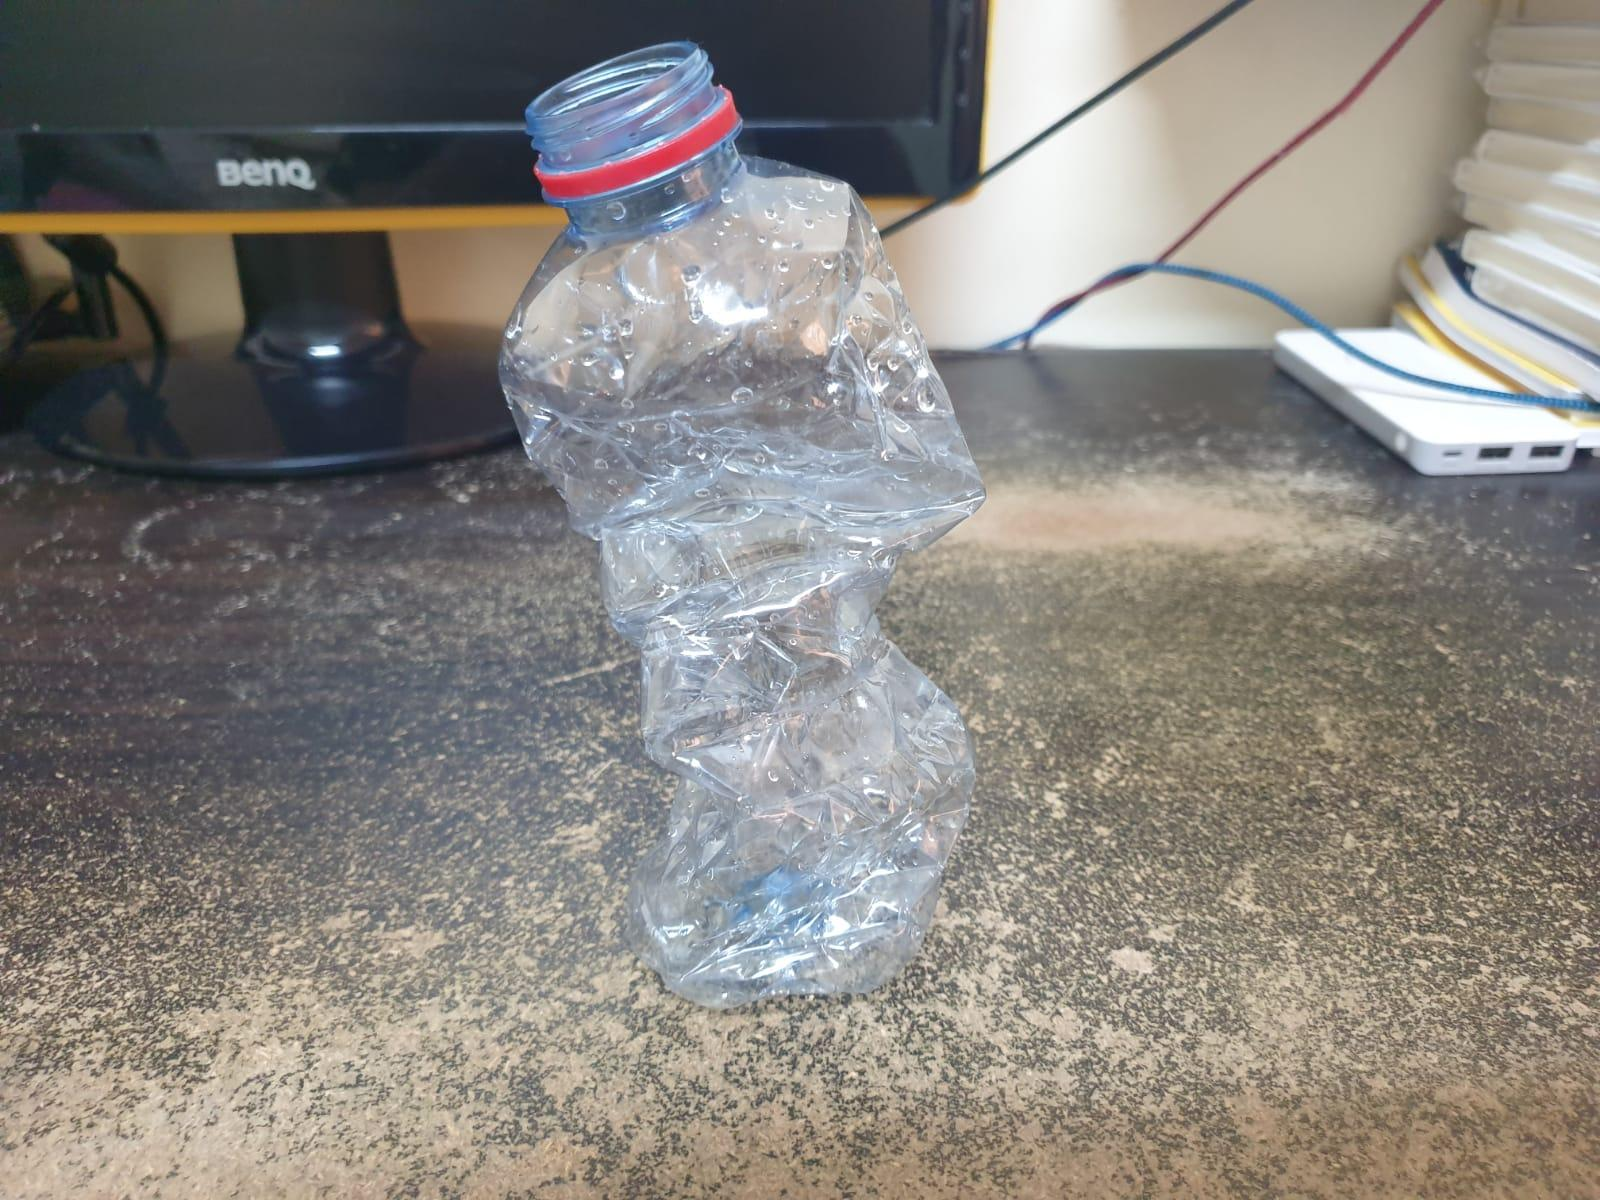bottle: (505, 54, 986, 1010)
